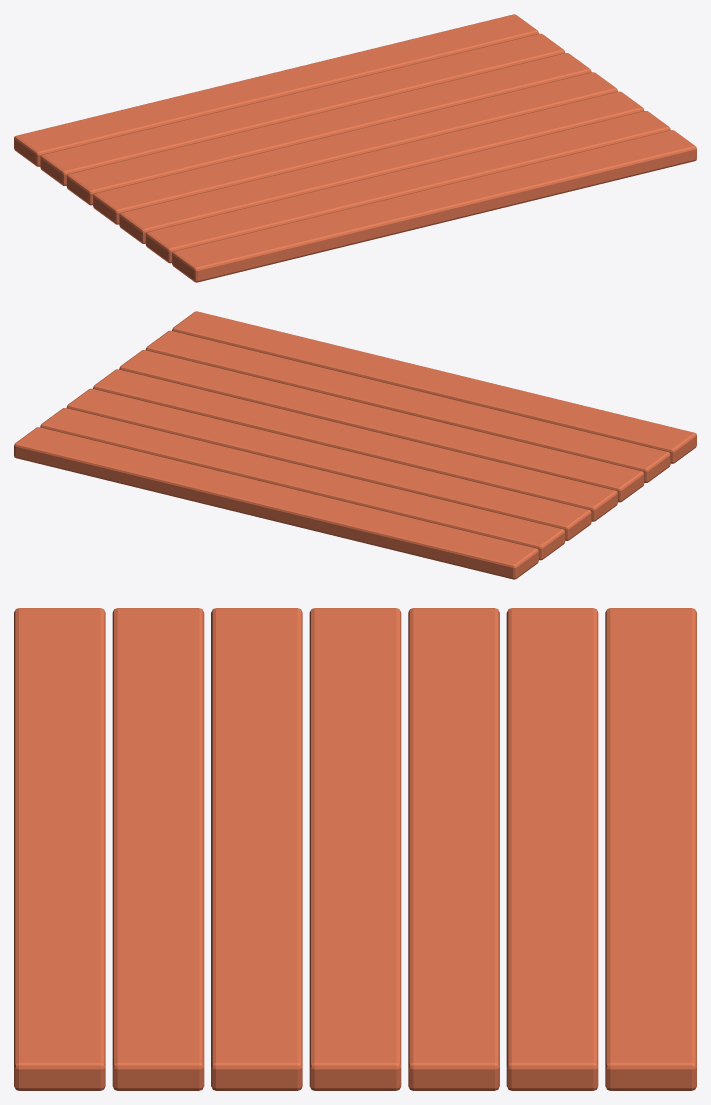
The model's file is tischplatte.glb.
The picture shows the model from 3 angles, top to bottom: view 1: azimuth 30°, elevation 25°; view 2: azimuth 150°, elevation 25°; view 3: azimuth 270°, elevation 25°; orthographic projection. The views are drawn at different scales.
Parts seen in each view (by area): view 1: Cube; view 2: Cube; view 3: Cube.
Boxes of the visible parts, x1,y1,x2,y2 form: Cube: [14, 14, 696, 282]; Cube: [14, 311, 696, 579]; Cube: [14, 608, 696, 1090].
Bounding box in the file's own units: 23.67 × 0.6759 × 14.9.
